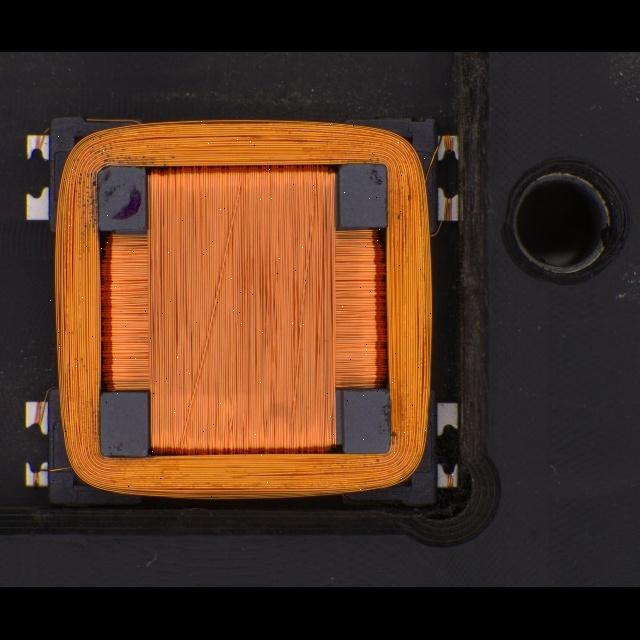Winding_Z: (50, 116, 435, 501)
